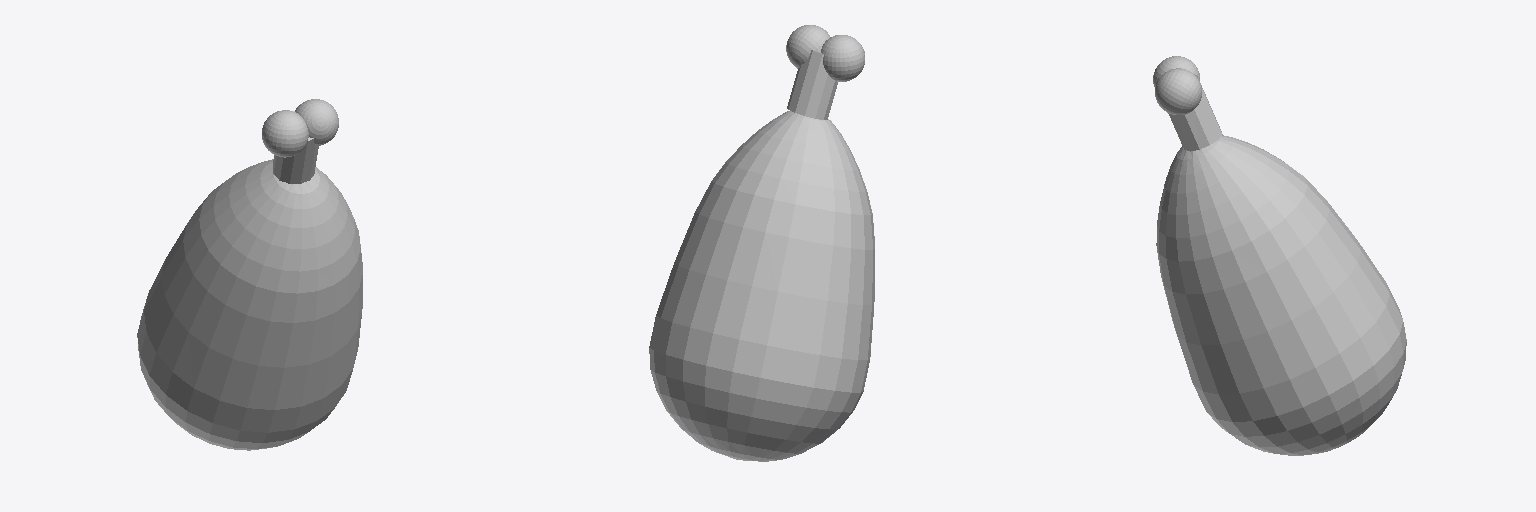
File: kalbi.obj
3 views of the same model, side by side, from view 1: azimuth 30°, elevation 25°; view 2: azimuth 150°, elevation 25°; view 3: azimuth 270°, elevation 25° (orthographic).
Parts seen in each view (by area): view 1: OilTank001, Sphere003; view 2: OilTank001, Sphere003; view 3: OilTank001, Sphere003.
Boxes of the visible parts, x1=… form: OilTank001: x1=137, y1=159, x2=362, y2=450; Sphere003: x1=262, y1=99, x2=338, y2=183; OilTank001: x1=649, y1=111, x2=874, y2=461; Sphere003: x1=786, y1=25, x2=864, y2=119; OilTank001: x1=1156, y1=135, x2=1406, y2=455; Sphere003: x1=1153, y1=56, x2=1222, y2=151.
Bounding box in the file's own units: 2.81 × 5.38 × 3.26.